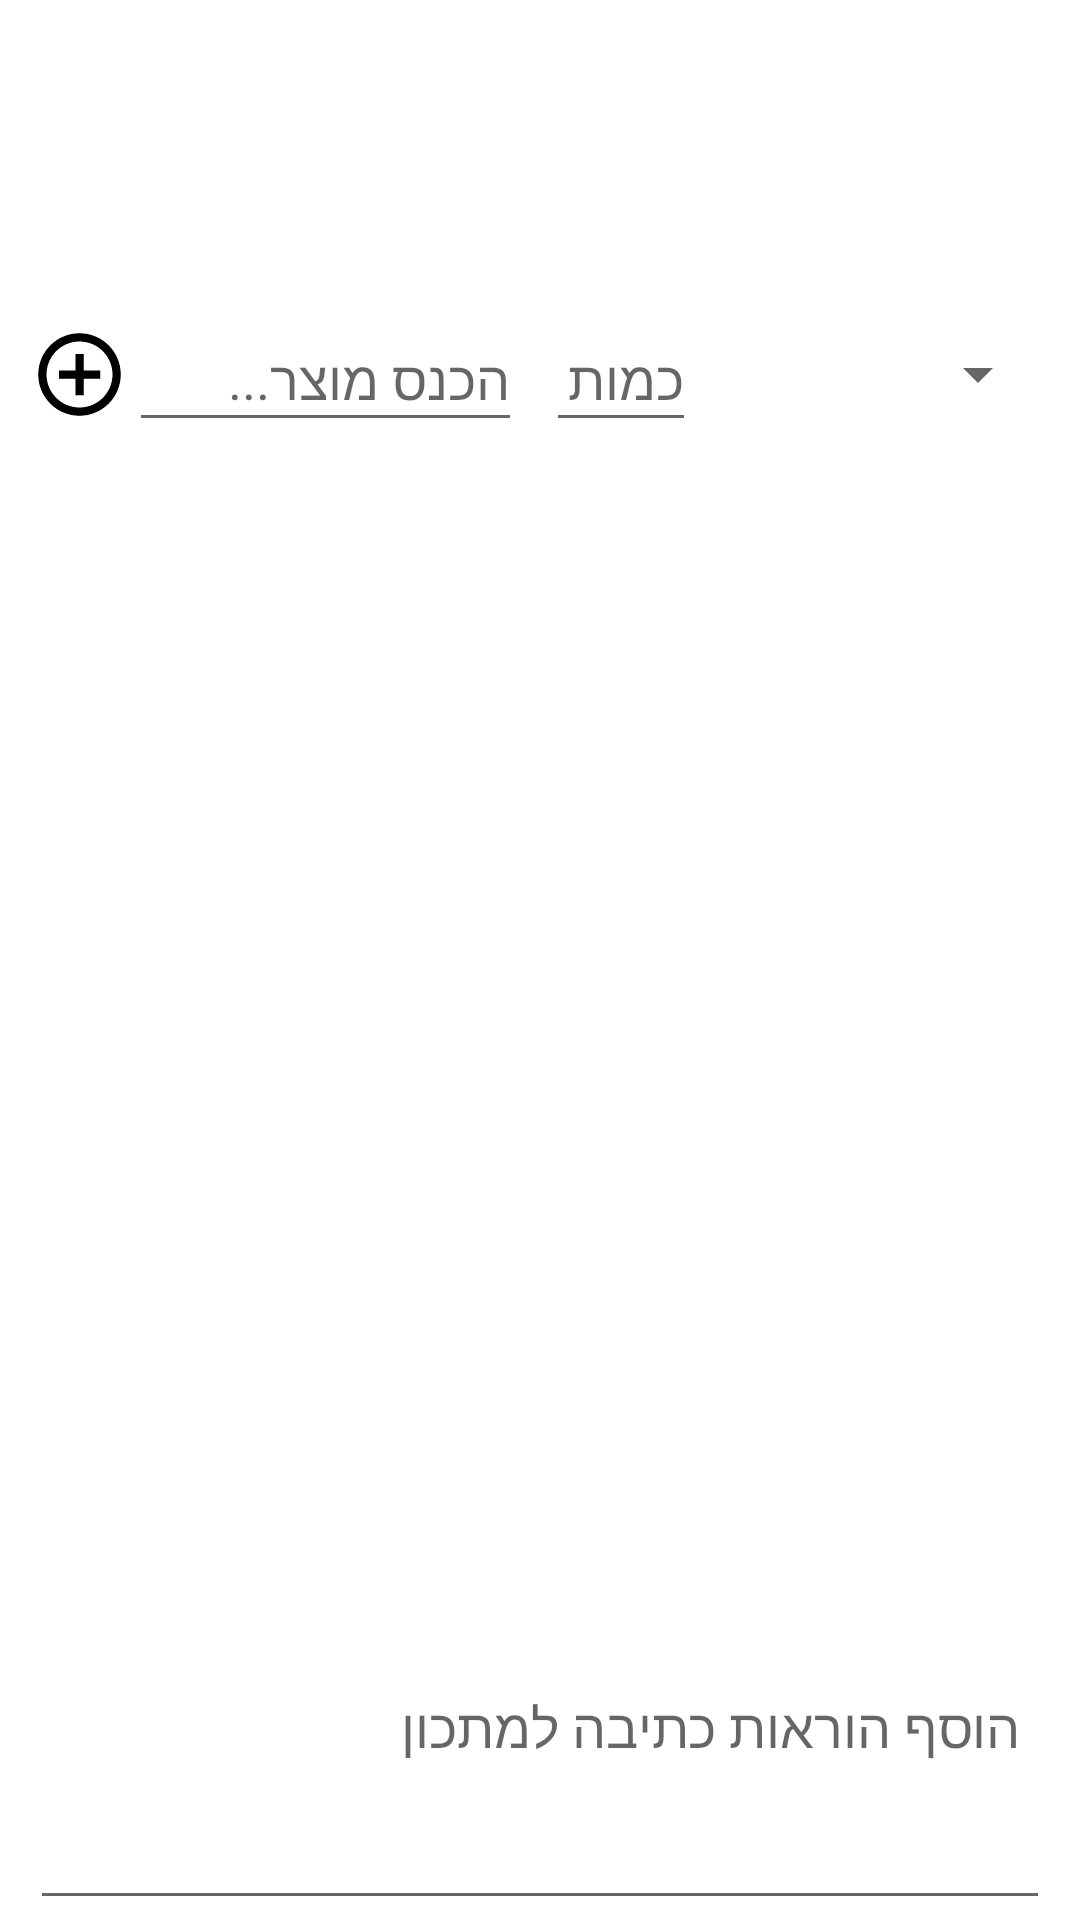

Named icons in this screenshot (1080×1920) and their centers, (x,y):
circle add: (79,374)
